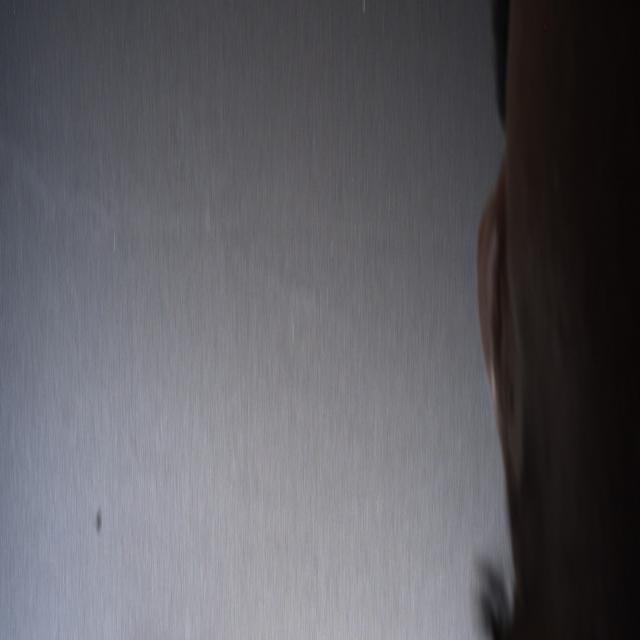crease: (225, 211, 413, 271)
